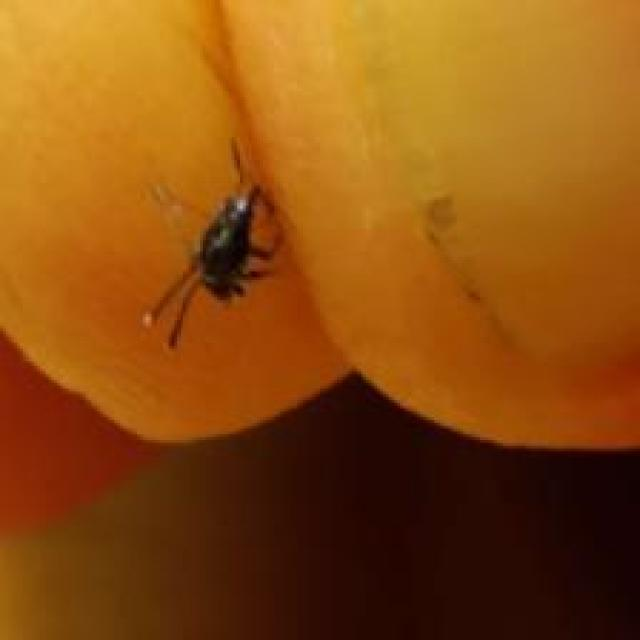Aedes albopictus: (140, 136, 286, 350)
